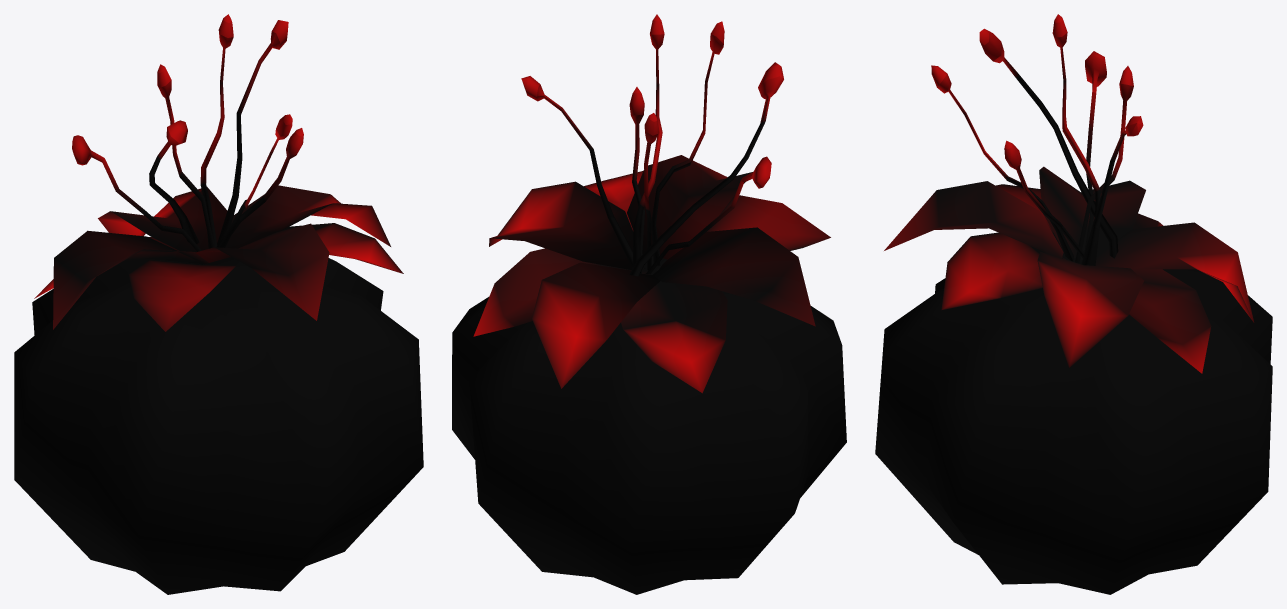
Rendered from Snake_flower_01.fbx.
3 views of the same model, side by side, from view 1: azimuth 30°, elevation 25°; view 2: azimuth 150°, elevation 25°; view 3: azimuth 270°, elevation 25° (orthographic). The views are drawn at different scales.
Visible parts, largest first — view 1: Snake_flower_01; view 2: Snake_flower_01; view 3: Snake_flower_01.
Boxes of the visible parts, left/top/right/bottom form: Snake_flower_01: left=14, top=14, right=423, bottom=594; Snake_flower_01: left=452, top=14, right=846, bottom=594; Snake_flower_01: left=875, top=14, right=1272, bottom=594.
Bounding box in the file's own units: 120 × 185 × 118.
